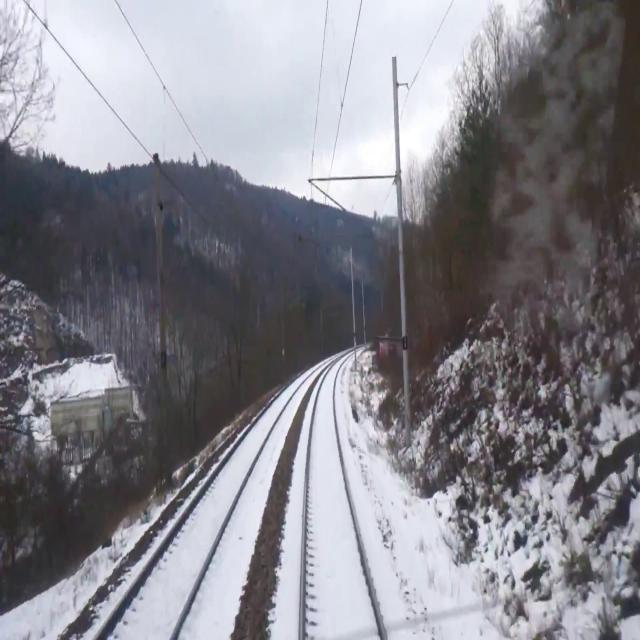rail-track: (101, 376, 304, 639), (305, 362, 381, 639)
